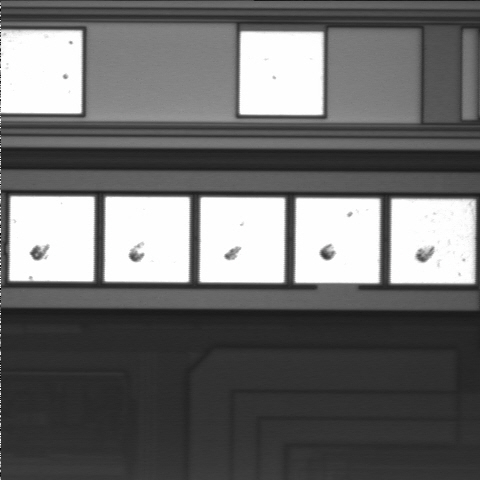pad: (200, 197, 285, 283), (295, 198, 380, 283), (10, 196, 94, 281), (105, 197, 189, 282), (391, 199, 475, 283), (240, 32, 323, 115)
